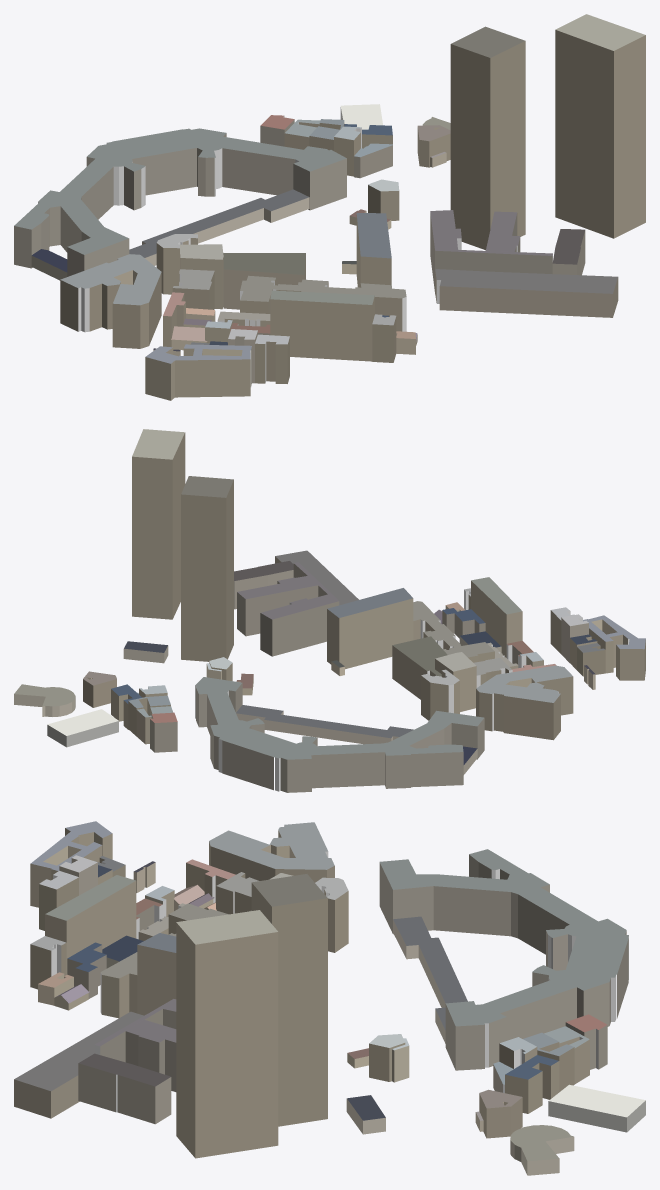
3 renders of one model, top to bottom at view 1: azimuth 30°, elevation 25°; view 2: azimuth 150°, elevation 25°; view 3: azimuth 270°, elevation 25°, orthographic. The views are drawn at different scales.
Parts seen in each view (by area): view 1: tuile; view 2: tuile; view 3: tuile.
Part boxes in pixels (<box>): tuile: <box>14,14,645,400</box>; tuile: <box>14,429,645,792</box>; tuile: <box>14,821,645,1175</box>.
Bounding box in the file's own units: 287 × 103 × 253.
